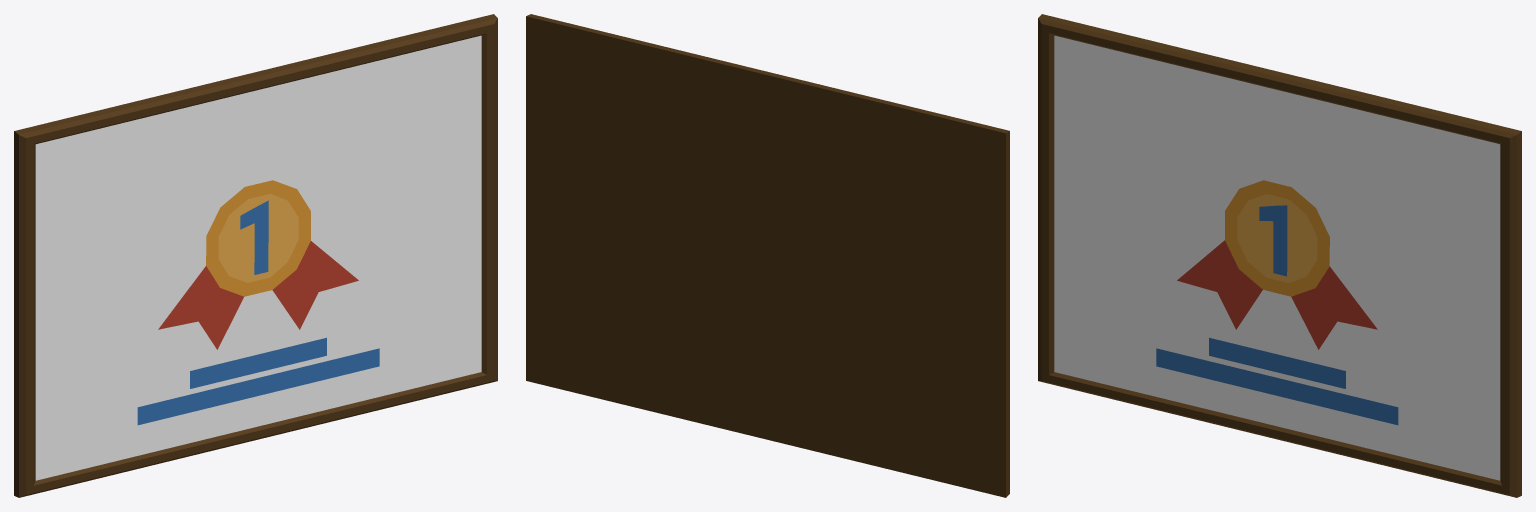
File: Int_WallCertificate01_2.fbx
3 views of the same model, side by side, from view 1: azimuth 30°, elevation 25°; view 2: azimuth 150°, elevation 25°; view 3: azimuth 330°, elevation 25° (orthographic).
Visible parts, largest first — view 1: Int_WallCertificate01_2; view 2: Int_WallCertificate01_2; view 3: Int_WallCertificate01_2.
Part boxes in pixels (left/top/right/bottom): Int_WallCertificate01_2: left=14, top=14, right=497, bottom=497; Int_WallCertificate01_2: left=526, top=14, right=1009, bottom=497; Int_WallCertificate01_2: left=1038, top=14, right=1521, bottom=497.
Size of what is drawn, in the model's own units: 79.54 by 1.79 by 57.74.
